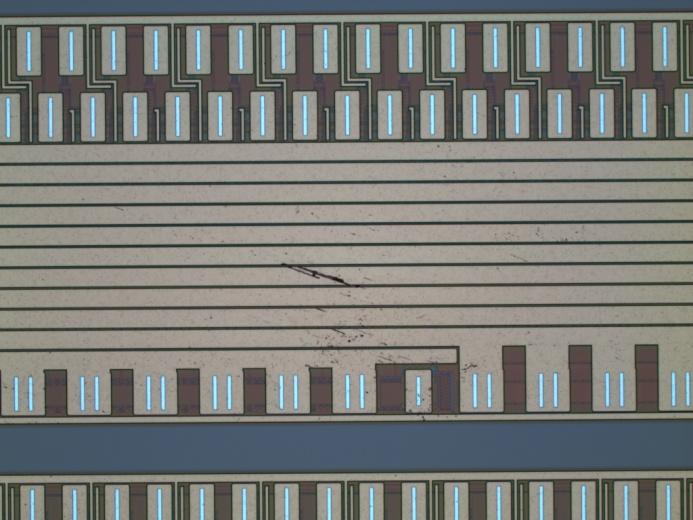SCRATCH: (248, 242, 423, 399)
